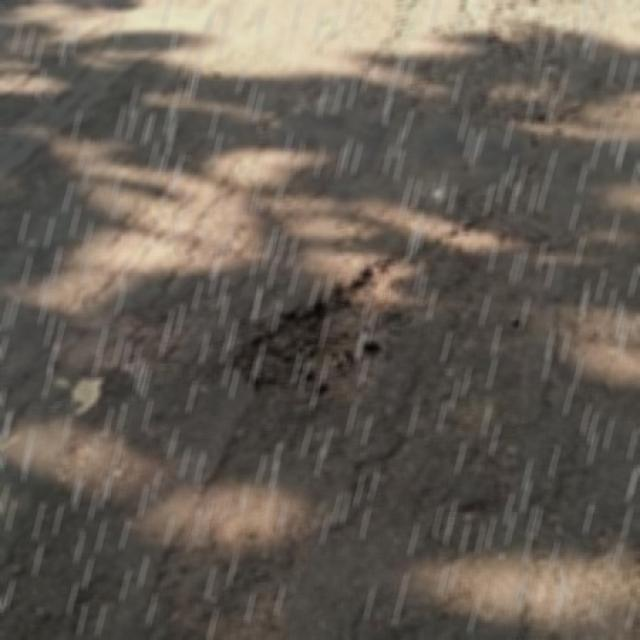road-pothole: (229, 199, 573, 416)
